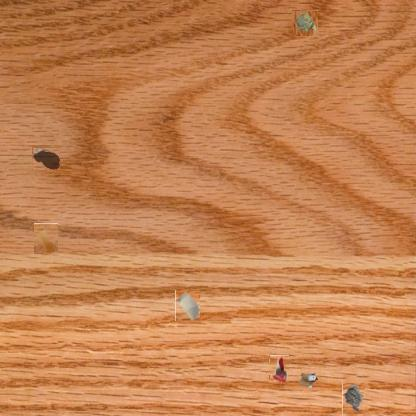dirty: (175, 289, 200, 321), (342, 384, 365, 416), (292, 10, 318, 36), (269, 355, 289, 384), (296, 370, 320, 390)
liquid: (34, 223, 58, 254), (32, 146, 60, 170)
